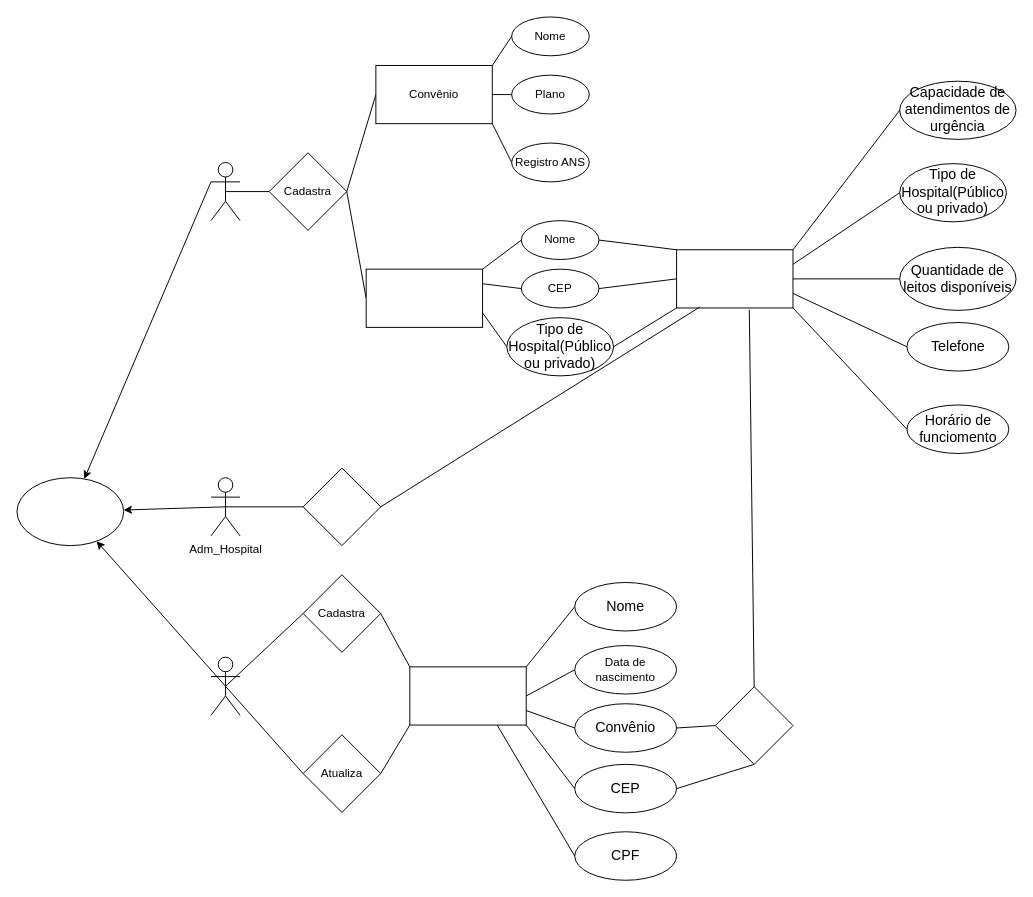
This 1033x897 diagram has some shape labels left out. Here are the shapes that lost their labels. From the top down, the box of each, then its label:
(210, 162, 240, 221): Adm_Master
(365, 268, 483, 327): Hospital
(676, 249, 793, 308): Hospital cadastrado
(16, 477, 124, 546): Iniciar Aplicativo
(302, 467, 381, 546): Gerencia
(210, 656, 240, 715): Paciente
(409, 666, 526, 725): Dados
(714, 686, 793, 764): Consulta
